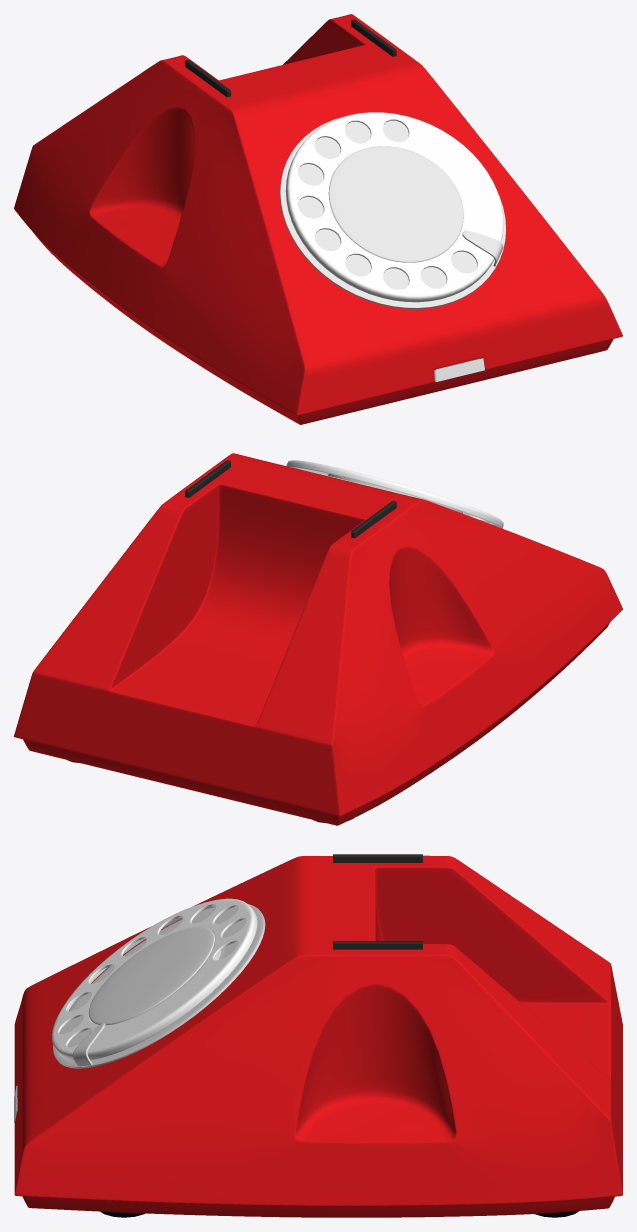
File: phone_base.glb
The picture shows the model from 3 angles, top to bottom: view 1: azimuth 30°, elevation 25°; view 2: azimuth 150°, elevation 25°; view 3: azimuth 270°, elevation 25°; orthographic projection. The views are drawn at different scales.
Parts seen in each view (by area): view 1: model_3, model_3.016, model_3.014, model_3.012, model_3.013; view 2: model_3, model_3.014; view 3: model_3, model_3.016, model_3.014, model_3.001, model_3.002, model_3.013.
Boxes of the visible parts, x1=… form: model_3: x1=14, y1=14, x2=622, y2=424; model_3.016: x1=280, y1=116, x2=505, y2=308; model_3.014: x1=285, y1=112, x2=503, y2=302; model_3.012: x1=434, y1=358, x2=484, y2=382; model_3.013: x1=462, y1=230, x2=503, y2=266; model_3: x1=14, y1=453, x2=622, y2=825; model_3.014: x1=286, y1=460, x2=503, y2=528; model_3: x1=14, y1=855, x2=622, y2=1217; model_3.016: x1=53, y1=904, x2=265, y2=1068; model_3.014: x1=52, y1=898, x2=257, y2=1060; model_3.001: x1=333, y1=854, x2=422, y2=862; model_3.002: x1=333, y1=941, x2=422, y2=949; model_3.013: x1=73, y1=1023, x2=105, y2=1066.
Bounding box in the file's own units: 1.66 × 0.9799 × 2.23.
